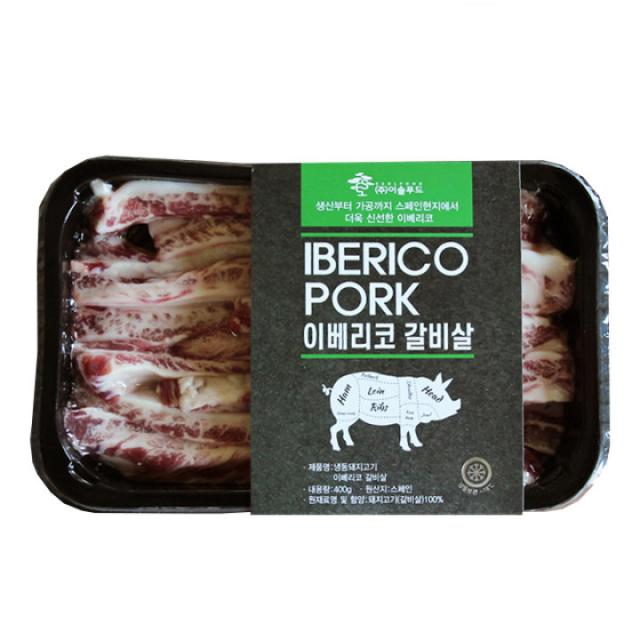pork: (27, 151, 601, 538)
